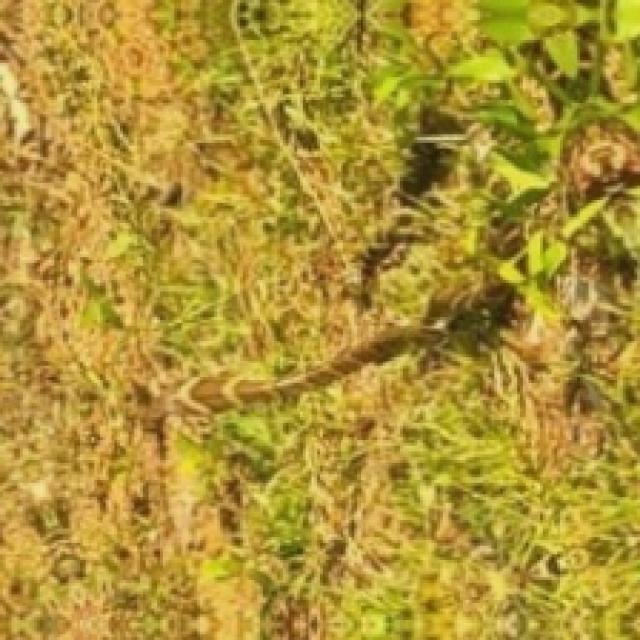king cobra: (166, 109, 637, 637)
